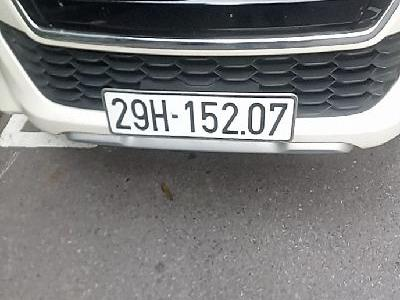number: (101, 87, 297, 145)
